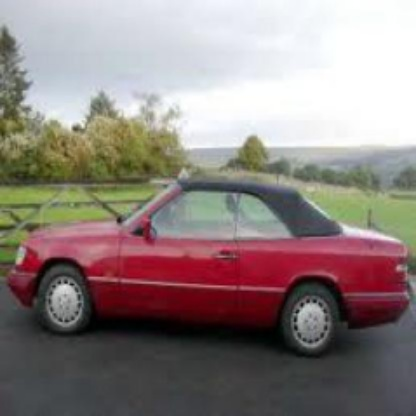Vehicle: (8, 167, 413, 362)
